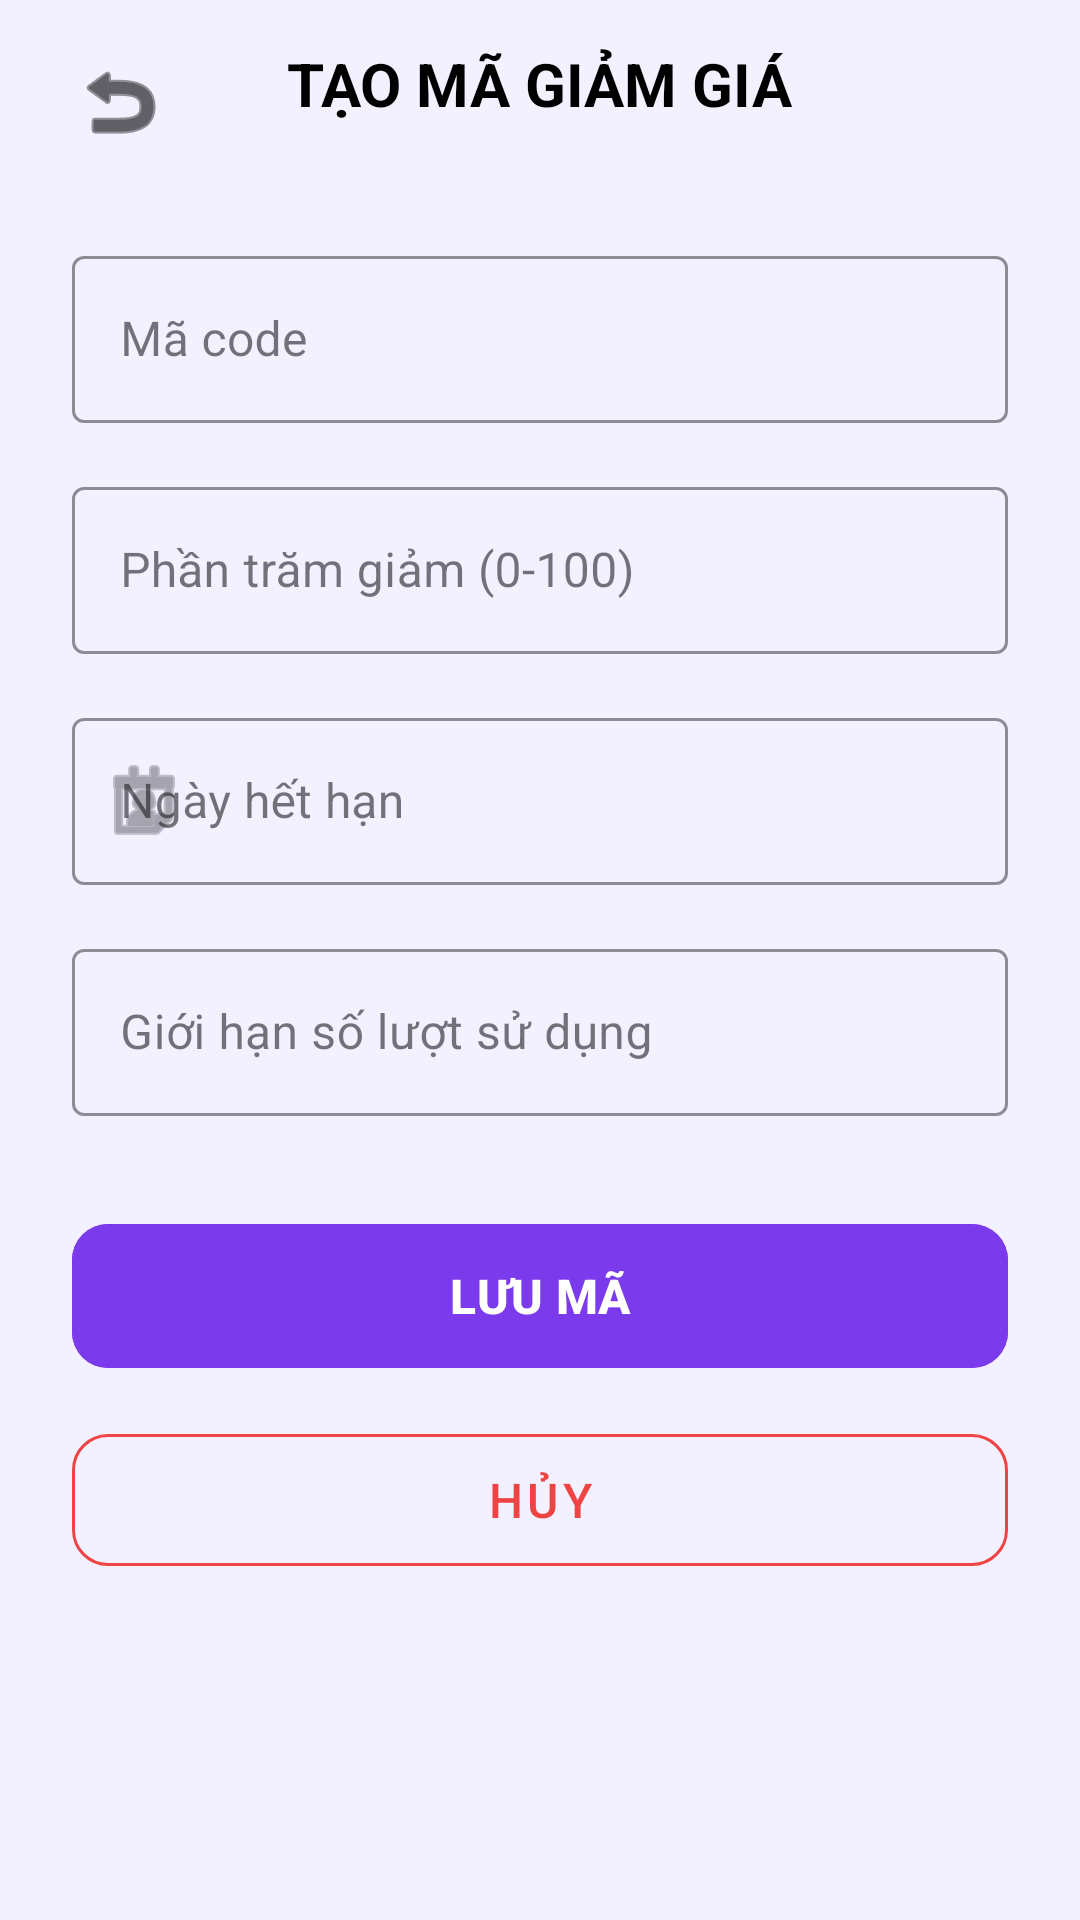

Screen size 1080x1920. Icon name, then its box in pixels as [left=x1, top=y1, right=x2, bottom=y2]:
Quay lại: [left=87, top=71, right=156, bottom=134]
